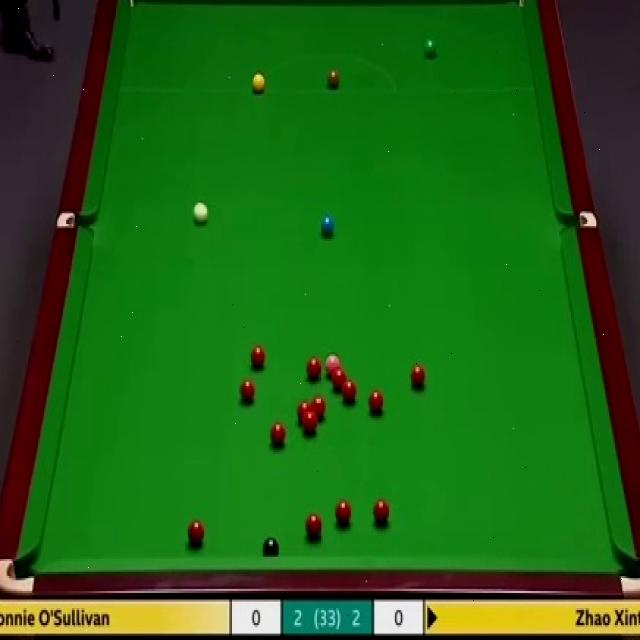black-ball: (262, 538, 280, 557)
blue-ball: (318, 212, 334, 238)
brown-ball: (327, 69, 339, 89)
green-ball: (421, 39, 438, 59)
pink-ball: (326, 355, 341, 378)
red-ball: (187, 519, 205, 547), (373, 498, 390, 526), (335, 500, 352, 527), (239, 379, 256, 405), (306, 513, 322, 540), (410, 365, 426, 391), (368, 389, 383, 416), (270, 423, 286, 448), (312, 396, 326, 423), (332, 368, 348, 391), (342, 380, 357, 404), (252, 346, 266, 370), (303, 414, 317, 435), (297, 401, 311, 422), (307, 360, 321, 380)
white-ball: (193, 200, 209, 224)
yellow-ball: (251, 72, 265, 92)
